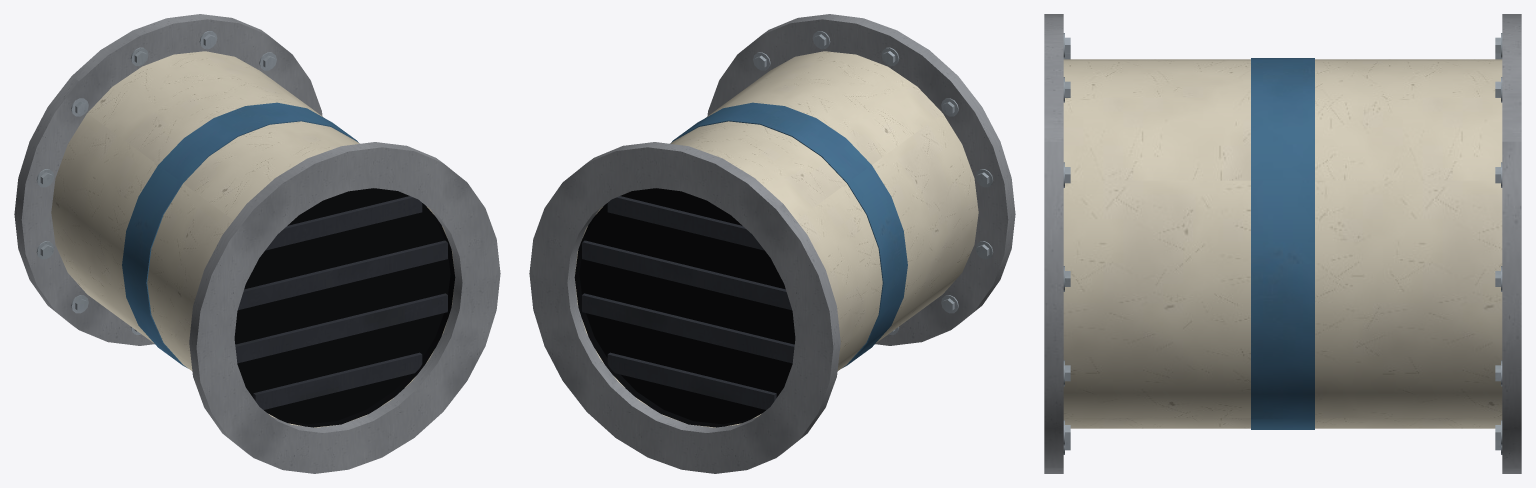
File: main_pipe_short.glb
3 renders of one model, left to right at view 1: azimuth 30°, elevation 25°; view 2: azimuth 150°, elevation 25°; view 3: azimuth 270°, elevation 25°, orthographic. The views are drawn at different scales.
Visible parts, largest first — view 1: Body.004; view 2: Body.004; view 3: Body.004.
Part boxes in pixels (box(x1,y1,x2,y2)): Body.004: box(14, 14, 500, 473); Body.004: box(529, 14, 1015, 473); Body.004: box(1044, 14, 1521, 473).
Bounding box in the file's own units: 0.72 × 0.72 × 0.747.
6 materials, 5 textured.
